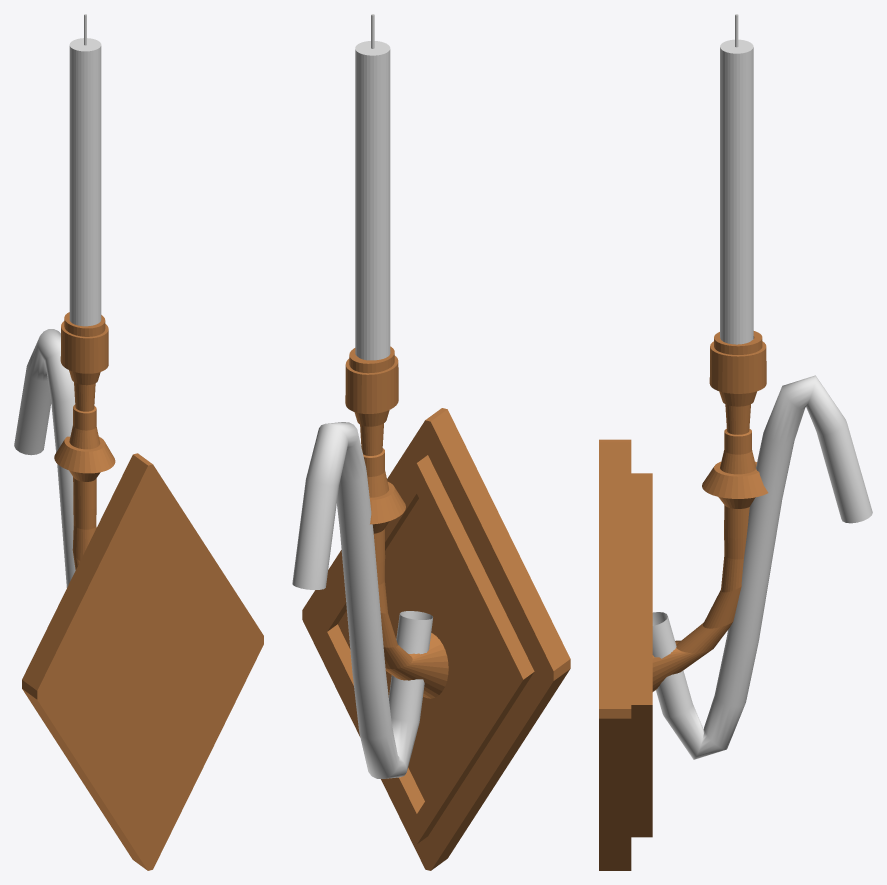
Rendered from bougieMurale.fbx.
3 views of the same model, side by side, from view 1: azimuth 30°, elevation 25°; view 2: azimuth 150°, elevation 25°; view 3: azimuth 270°, elevation 25° (orthographic). The views are drawn at different scales.
Visible parts, largest first — view 1: Cube, Cylindre.001, Cylindre, CourbeBézier; view 2: Cube, CourbeBézier, Cylindre.001, Cylindre; view 3: Cube, CourbeBézier, Cylindre, Cylindre.001.
Boxes of the visible parts, bbox=[...] form: Cube: bbox=[22, 453, 263, 870]; Cylindre.001: bbox=[69, 38, 101, 326]; Cylindre: bbox=[54, 312, 115, 569]; CourbeBézier: bbox=[14, 329, 75, 587]; Cube: bbox=[302, 408, 570, 870]; CourbeBézier: bbox=[292, 422, 432, 778]; Cylindre.001: bbox=[355, 41, 390, 360]; Cylindre: bbox=[345, 346, 448, 698]; Cube: bbox=[599, 439, 652, 870]; CourbeBézier: bbox=[652, 375, 872, 759]; Cylindre: bbox=[652, 331, 768, 691]; Cylindre.001: bbox=[720, 39, 753, 344].
Bounding box in the file's own units: 51.32 × 175 × 50.76.
